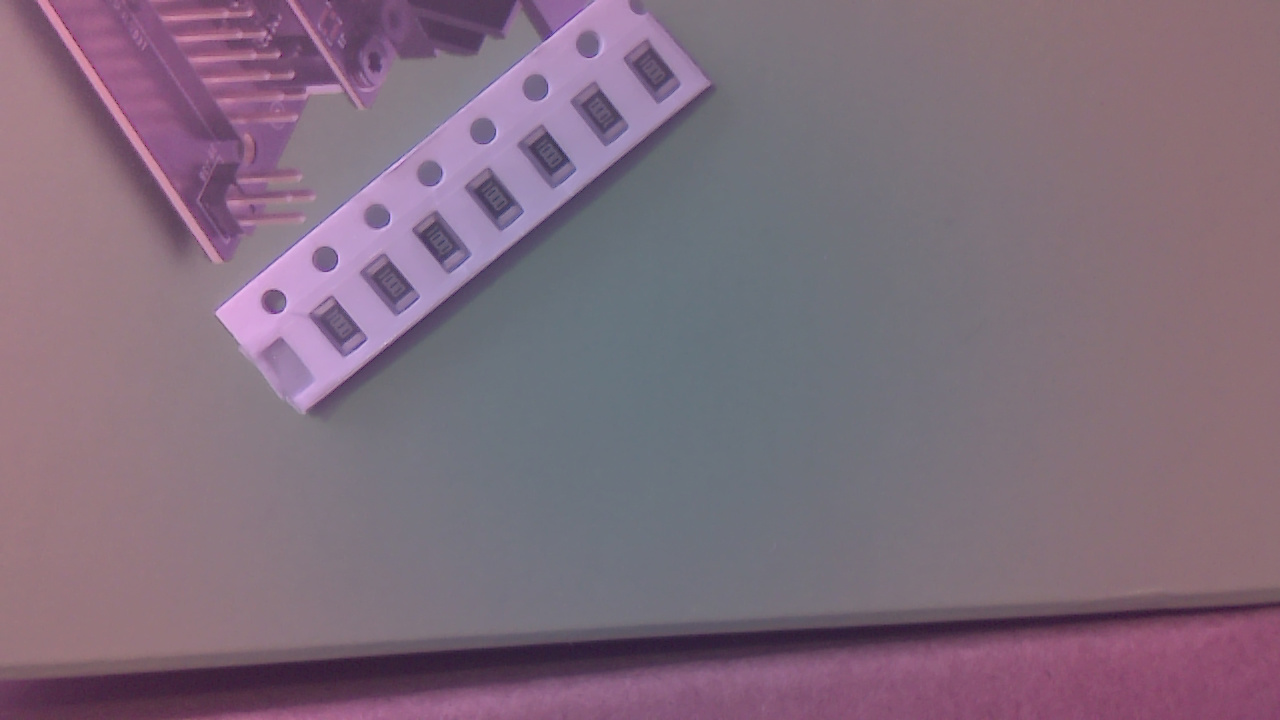Resistor: (310, 299, 375, 364), (414, 215, 478, 278), (363, 255, 424, 320), (467, 172, 527, 237), (629, 44, 689, 108), (577, 86, 634, 152), (522, 129, 580, 193)
